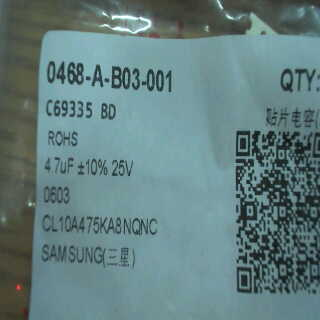4.7uF: (41, 153, 75, 179)
